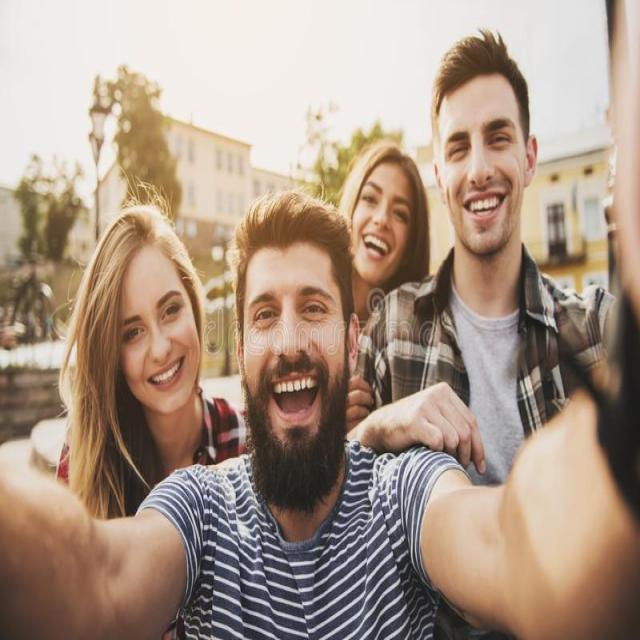sem_oculos: (237, 282, 361, 342), (92, 297, 224, 353), (426, 114, 546, 166), (349, 171, 428, 238)
